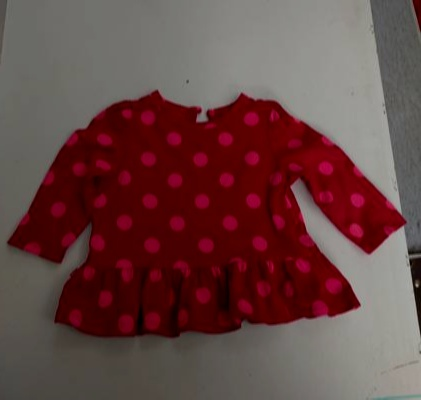Dress: (24, 67, 410, 328)
